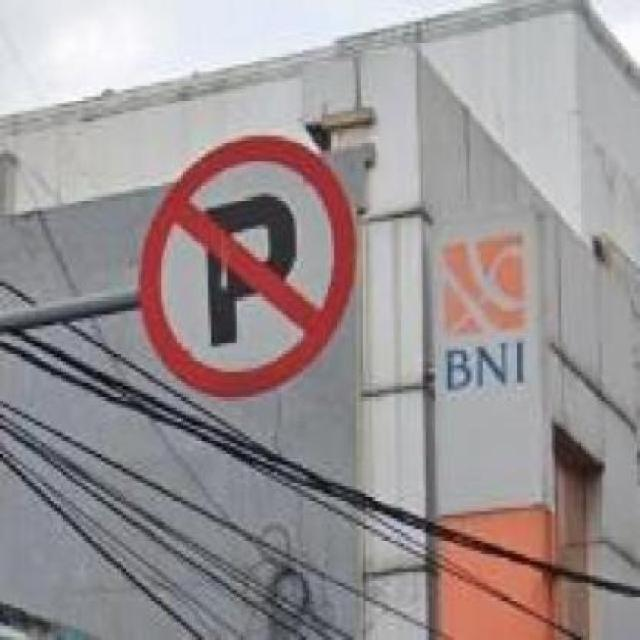no parking: (135, 132, 354, 397)
